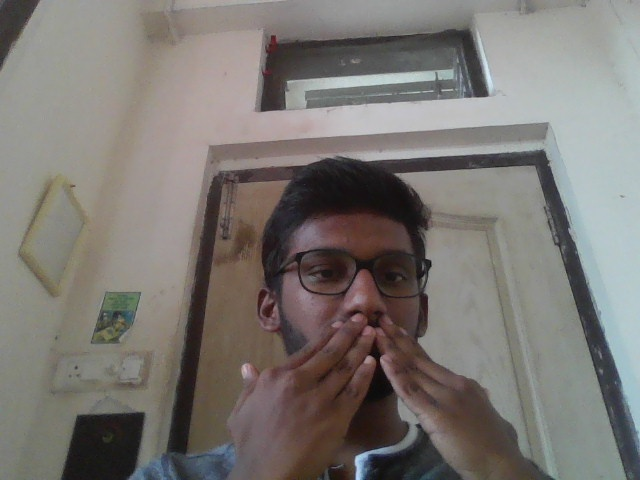Thank You: (221, 311, 526, 466)
